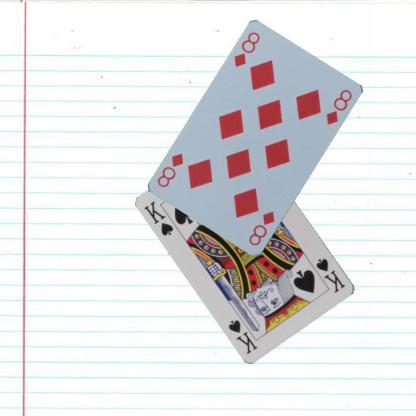8d: (246, 208, 276, 248), (231, 29, 261, 69)
Ks: (142, 198, 175, 238), (314, 255, 347, 294)
